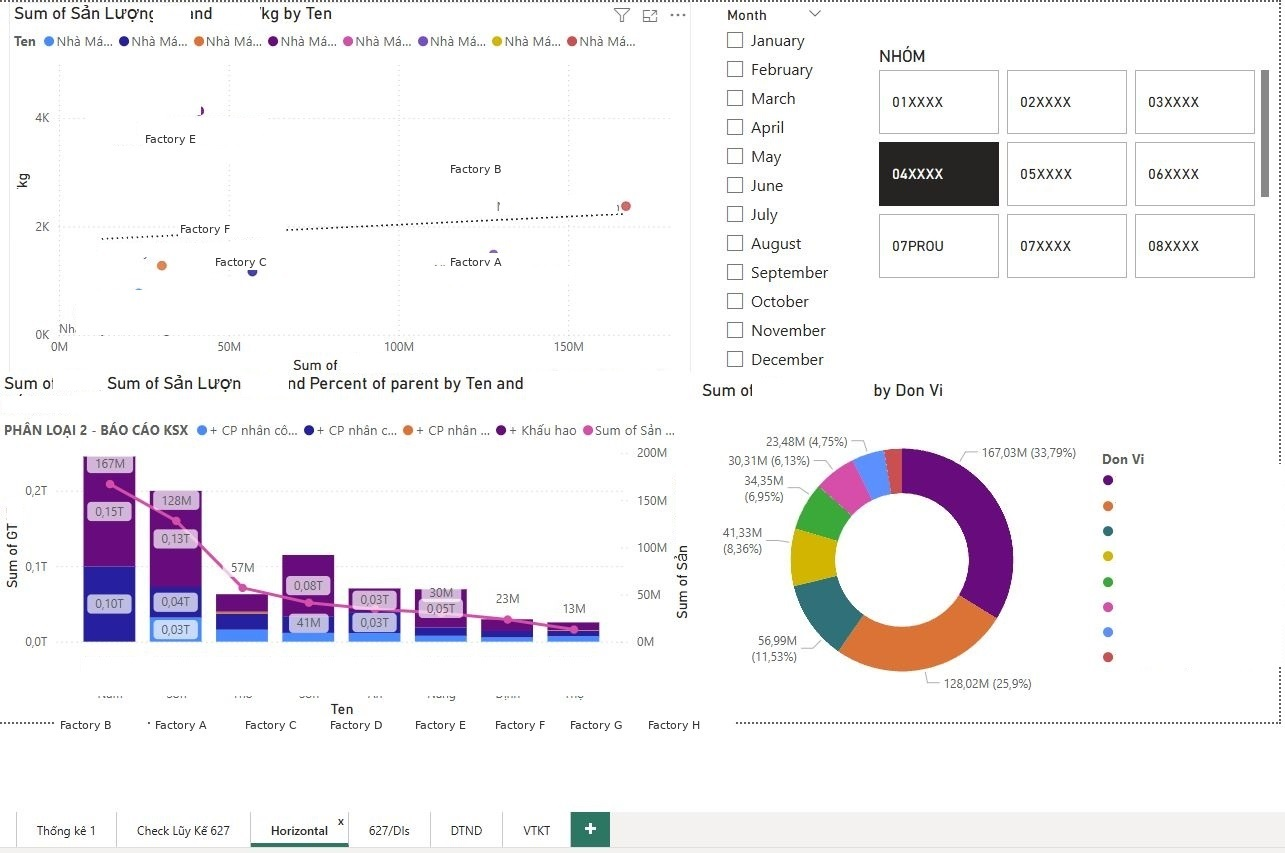

The dashboard page shown, as its layout file describes it:
{"tool":"powerbi","page":{"name":"Horizontal","canvas":[1280,720],"ordinal":3},"visuals":[{"type":"scatterChart","fields":{"Series":["Org.Ten"],"X":["Sum(Sản Lượng Phân tích 25.Sản Lượng 25)"],"Y":["627-2023.GT25/kg"]},"box":[10,0,682.3,376.5],"z":0},{"type":"advancedSlicerVisual","fields":{"Values":["Nhóm SP.NHÓM"]},"box":[874.9,44,400.5,236.5],"z":1000},{"type":"lineStackedColumnComboChart","fields":{"Category":["Org.Ten"],"Y":["Sum(627-2025.GT25)"],"Y2":["Sum(Sản Lượng Phân tích 25.Sản Lượng 25)"],"Series":["Phân loại báo cáo.TÊN MỤC 1 Hierarchy.PHÂN LOẠI 2 - BÁO CÁO KSX"]},"box":[0,370.4,695,349.4],"z":2000},{"type":"slicer","fields":{"Values":["Date.Date.Variation.Date Hierarchy.Month"]},"box":[715.4,0,119.7,377.1],"z":3000},{"type":"donutChart","fields":{"Y":["Sum(Sản Lượng Phân tích 25.Sản Lượng 25)"],"Category":["Org.Don Vi"]},"box":[698,377,582,343],"z":4000}]}

Visuals, with their boxes on the page's 1280x720 design canvas (x1, y1, x2, y2). These are canvas units, not pixel positions in the 1285x853 screenshot, which may show the page scaled, cropped or inside an application window:
scatterChart - Org.Ten x Sum(Sản Lượng Phân tích 25.Sản Lượng 25): locate(10, 0, 692, 376)
advancedSlicerVisual - Nhóm SP.NHÓM: locate(875, 44, 1275, 280)
lineStackedColumnComboChart - Org.Ten x Sum(627-2025.GT25): locate(0, 370, 695, 720)
slicer - Date.Date.Variation.Date Hierarchy.Month: locate(715, 0, 835, 377)
donutChart - Sum(Sản Lượng Phân tích 25.Sản Lượng 25) x Org.Don Vi: locate(698, 377, 1280, 720)
